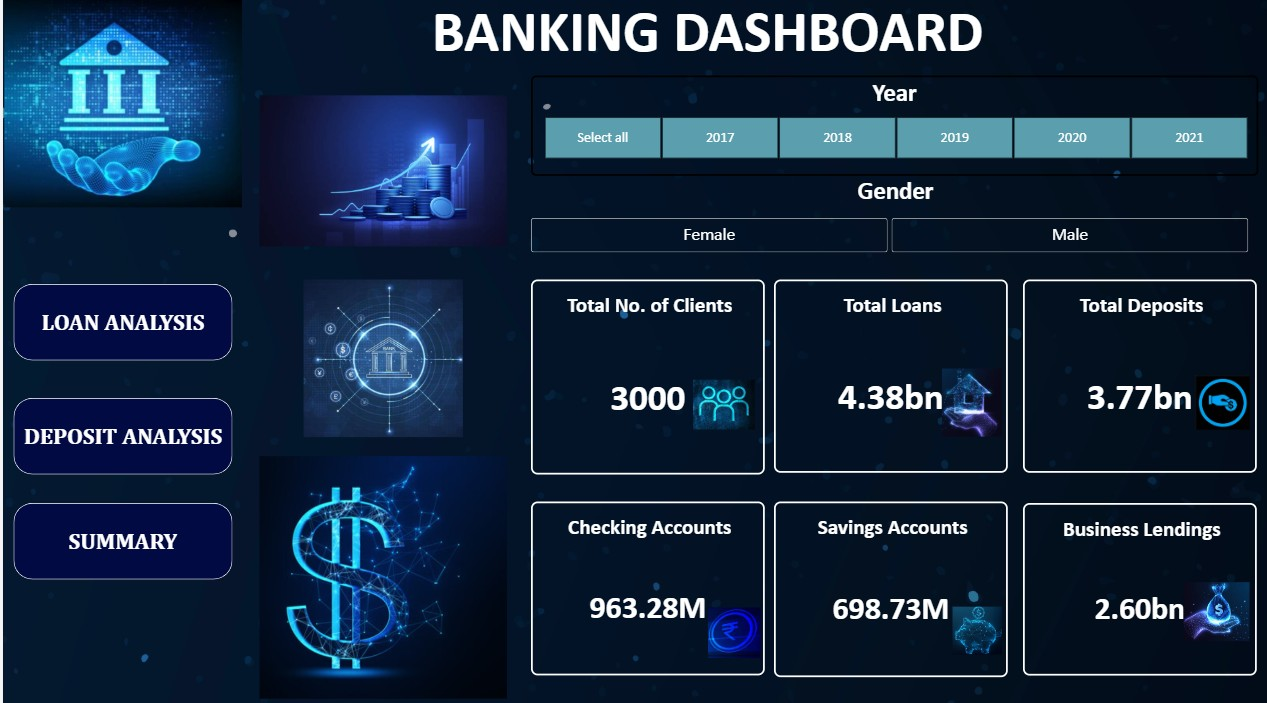

The dashboard page shown, as its layout file describes it:
{"tool":"powerbi","page":{"name":"Home","canvas":[1920,1080],"ordinal":0},"visuals":[{"type":"image","box":[0,0,363.4,320.3],"z":0},{"type":"group","id":"g1","title":"Group 1","box":[799.5,429.3,354.3,295.3],"z":0,"group":"g2"},{"type":"textbox","box":[649.6,0,967.6,161.3],"z":1000},{"type":"image","box":[1044.8,537.7,93.1,160.7],"z":1000,"group":"g2"},{"type":"shape","box":[15.9,436.1,331.6,115.8],"z":2000},{"type":"shape","box":[15.9,608.7,331.6,115.8],"z":3000},{"type":"shape","box":[15.9,767.7,331.6,115.8],"z":4000},{"type":"textbox","box":[799.5,272.6,1103.9,156.7],"z":5000},{"type":"card","title":"Total No. of Clients","fields":{"Values":["CountNonNull(Banking_dataset.Name)"]},"box":[799.5,429.3,354.3,295.3],"z":5000,"group":"g1"},{"type":"advancedSlicerVisual","fields":{"Values":["Banking_dataset.Gender"]},"box":[799.5,336.2,1088,52.2],"z":6000},{"type":"card","title":"Total Loans","fields":{"Values":["Banking_dataset.Total Loans"]},"box":[1167.5,429.3,354.3,293],"z":6000,"group":"g3"},{"type":"textbox","box":[799.5,120.4,1101.6,152.2],"z":7000},{"type":"card","title":"Total Deposits","fields":{"Values":["Banking_dataset.Total Deposit"]},"box":[1544.5,429.3,354.3,293],"z":7000,"group":"g4"},{"type":"slicer","fields":{"Values":["Banking_dataset.Year of Joining"]},"box":[799.5,181.7,1103.9,65.9],"z":8000},{"type":"card","title":"Checking Accounts","fields":{"Values":["Sum(Banking_dataset.Checking Accounts)"]},"box":[799.5,765.4,354.3,263.5],"z":8000,"group":"g5"},{"type":"group","id":"g2","title":"Group 2","box":[799.5,429.3,354.3,295.3],"z":9000},{"type":"card","title":"Savings Accounts","fields":{"Values":["Sum(Banking_dataset.Saving Accounts)"]},"box":[1167.5,765.4,354.3,265.7],"z":9000,"group":"g6"},{"type":"group","id":"g3","title":"Group 3","box":[1167.5,429.3,354.3,293],"z":10000},{"type":"card","title":"Business Lendings","fields":{"Values":["Sum(Banking_dataset.Business Lending)"]},"box":[1544.5,767.7,354.3,261.2],"z":10000,"group":"g7"},{"type":"group","id":"g4","title":"Group 4","box":[1544.5,429.3,354.3,293],"z":11000},{"type":"group","id":"g5","title":"Group 5","box":[799.5,765.4,354.3,263.5],"z":12000},{"type":"group","id":"g6","title":"Group 6","box":[1167.5,765.4,354.3,265.7],"z":13000},{"type":"group","id":"g7","title":"Group 7","box":[1544.5,767.7,354.3,261.2],"z":14000},{"type":"image","box":[388.4,93.1,374.8,343],"z":15000},{"type":"image","box":[1421.9,536.9,90.9,159.5],"z":15004,"group":"g3"},{"type":"image","box":[1806.7,535.2,81.8,159.5],"z":15006,"group":"g4"},{"type":"image","box":[1067.8,919.3,79.5,88.6],"z":15008,"group":"g5"},{"type":"image","box":[1438.2,915.7,75,90.9],"z":15010,"group":"g6"},{"type":"image","box":[1787.5,866.9,99.9,128.9],"z":15012,"group":"g7"},{"type":"image","box":[388.4,681.4,374.8,397.5],"z":16000},{"type":"image","box":[388.4,429.3,374.8,238.5],"z":17000}]}

Visuals, with their boxes in screenshot pixels (x1, y1, x2, y2), scaled from the page's 1920x1080 canvas onto the 1267x703 screenshot:
image: l=0, t=0, r=240, b=208
"Group 1" group: l=528, t=279, r=761, b=472
textbox: l=429, t=0, r=1067, b=105
image: l=689, t=350, r=751, b=455
shape: l=10, t=284, r=229, b=359
shape: l=10, t=396, r=229, b=472
shape: l=10, t=500, r=229, b=575
textbox: l=528, t=177, r=1256, b=279
"Total No. of Clients" card: l=528, t=279, r=761, b=472
advancedSlicerVisual - Banking_dataset.Gender: l=528, t=219, r=1246, b=253
"Total Loans" card: l=770, t=279, r=1004, b=470
textbox: l=528, t=78, r=1255, b=177
"Total Deposits" card: l=1019, t=279, r=1253, b=470
slicer - Banking_dataset.Year of Joining: l=528, t=118, r=1256, b=161
"Checking Accounts" card: l=528, t=498, r=761, b=670
"Group 2" group: l=528, t=279, r=761, b=472
"Savings Accounts" card: l=770, t=498, r=1004, b=671
"Group 3" group: l=770, t=279, r=1004, b=470
"Business Lendings" card: l=1019, t=500, r=1253, b=670
"Group 4" group: l=1019, t=279, r=1253, b=470
"Group 5" group: l=528, t=498, r=761, b=670
"Group 6" group: l=770, t=498, r=1004, b=671
"Group 7" group: l=1019, t=500, r=1253, b=670
image: l=256, t=61, r=504, b=284
image: l=938, t=349, r=998, b=453
image: l=1192, t=348, r=1246, b=452
image: l=705, t=598, r=757, b=656
image: l=949, t=596, r=999, b=655
image: l=1180, t=564, r=1245, b=648
image: l=256, t=444, r=504, b=702
image: l=256, t=279, r=504, b=435
